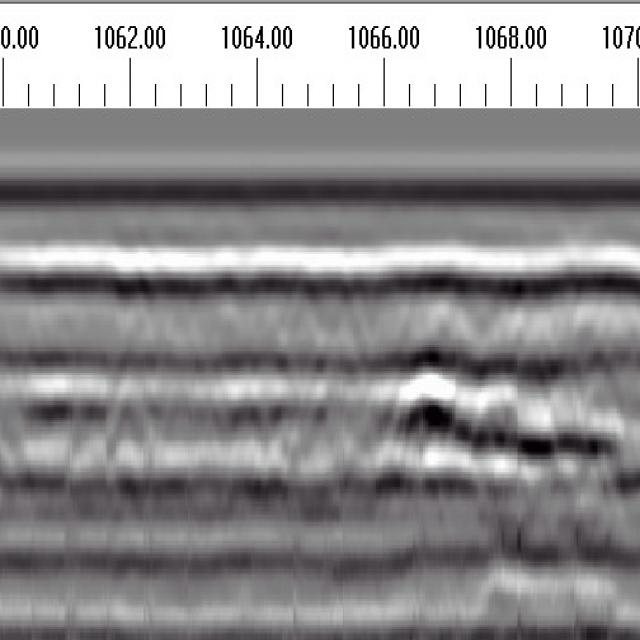loose: (366, 337, 637, 495)
